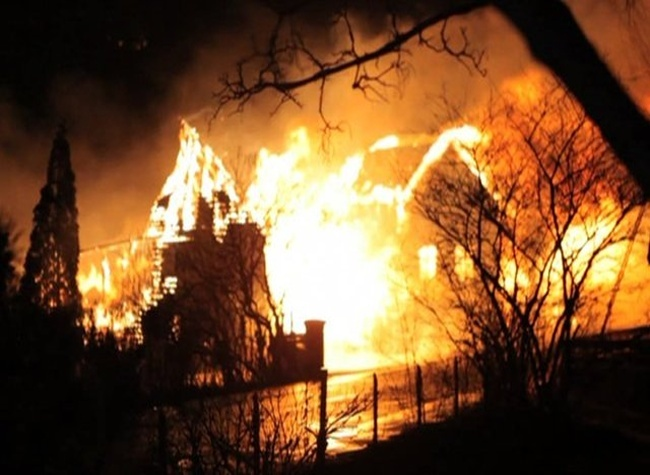Fire: (264, 160, 402, 366), (161, 131, 238, 223)
Smoke: (81, 166, 152, 250)
